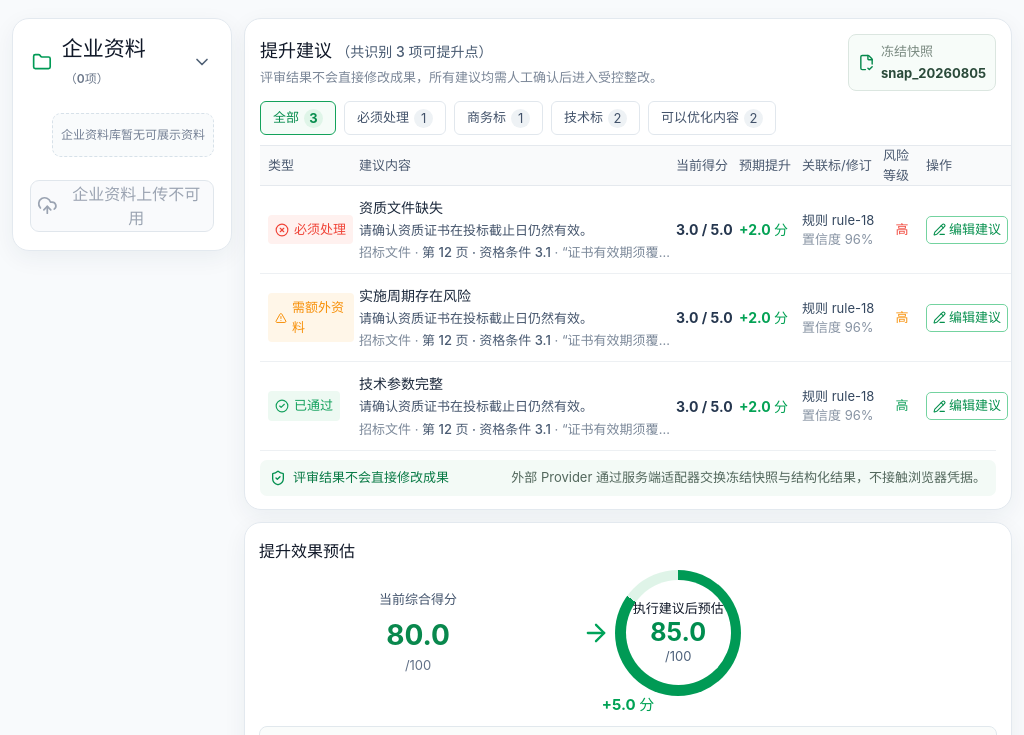
Test case: ReviewCenter › filters loaded findings by required action, category and optimizable status
The image size is (1024, 735).
Step 1. Click the button "必须处理 1" → [395, 118], box [344,101,446,135]
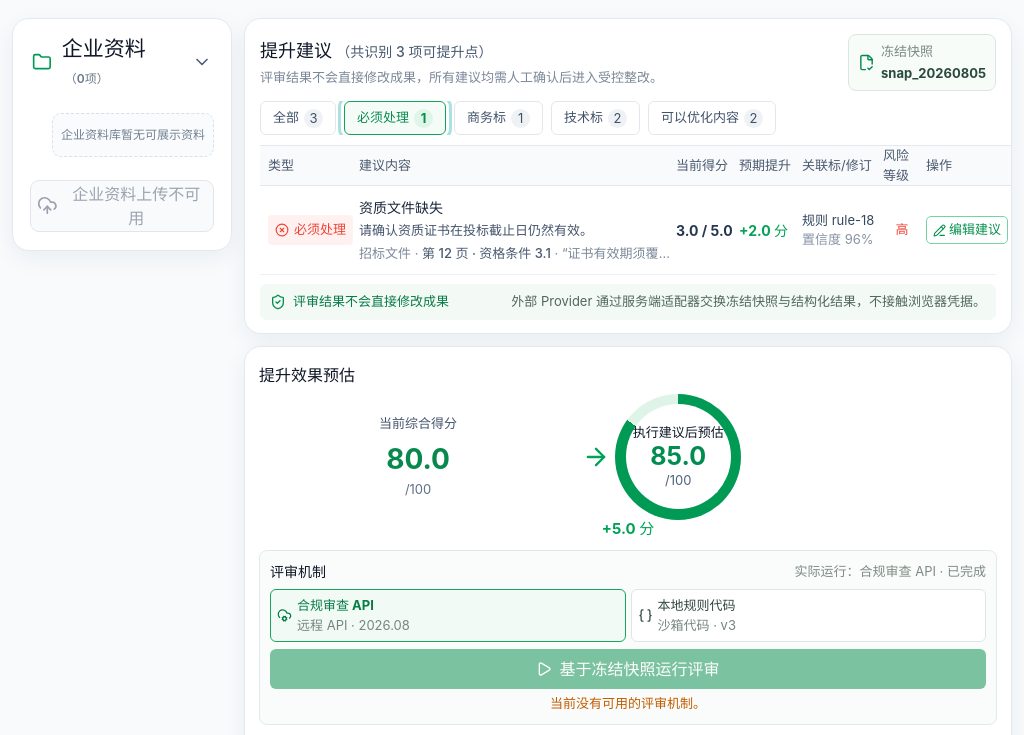
Expected: the text "资质文件缺失" is shown, [359,199,443,216]
Now the text "实施周期存在风险" is gone
Step 2. Click the button "技术标 2" → [596, 118], box [551,101,640,135]
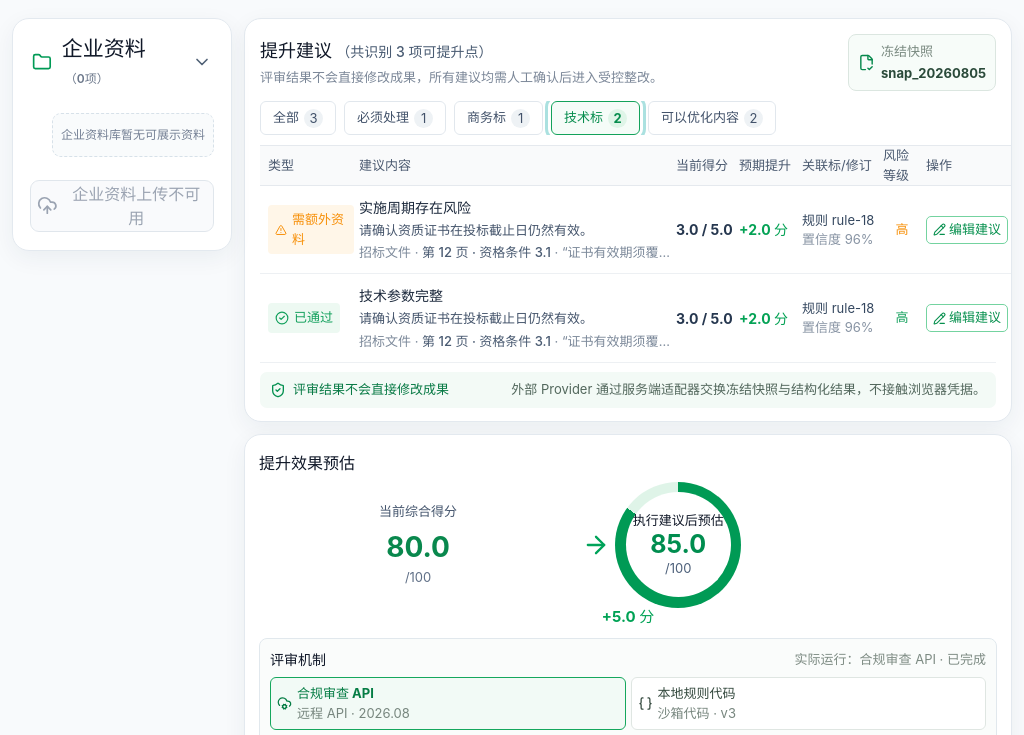
Now the text "资质文件缺失" is gone
Now the text "实施周期存在风险" is shown, box [359,198,471,216]
Now the text "技术参数完整" is shown, box [359,287,443,304]
Step 3. Click the button "可以优化内容 2" → [712, 118], box [648,101,776,135]
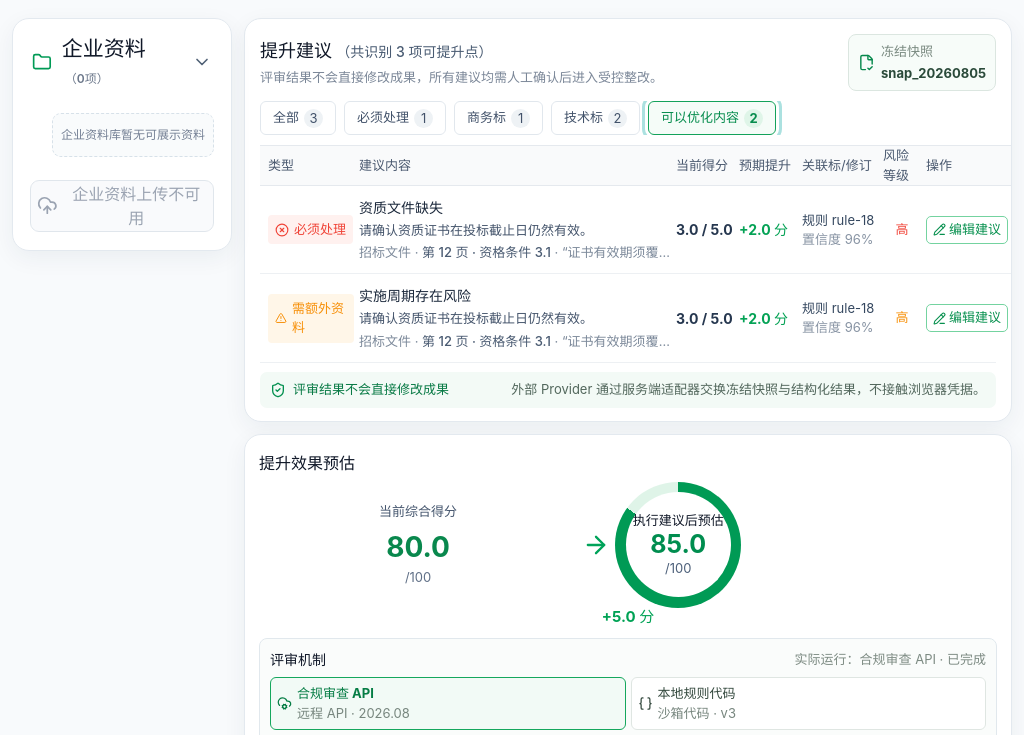
Now the text "实施周期存在风险" is shown, box [359,287,471,304]
Now the text "资质文件缺失" is shown, box [359,198,443,216]
Now the text "技术参数完整" is gone
Step 4. Click the button "全部 3" → [298, 118], box [260,101,336,135]
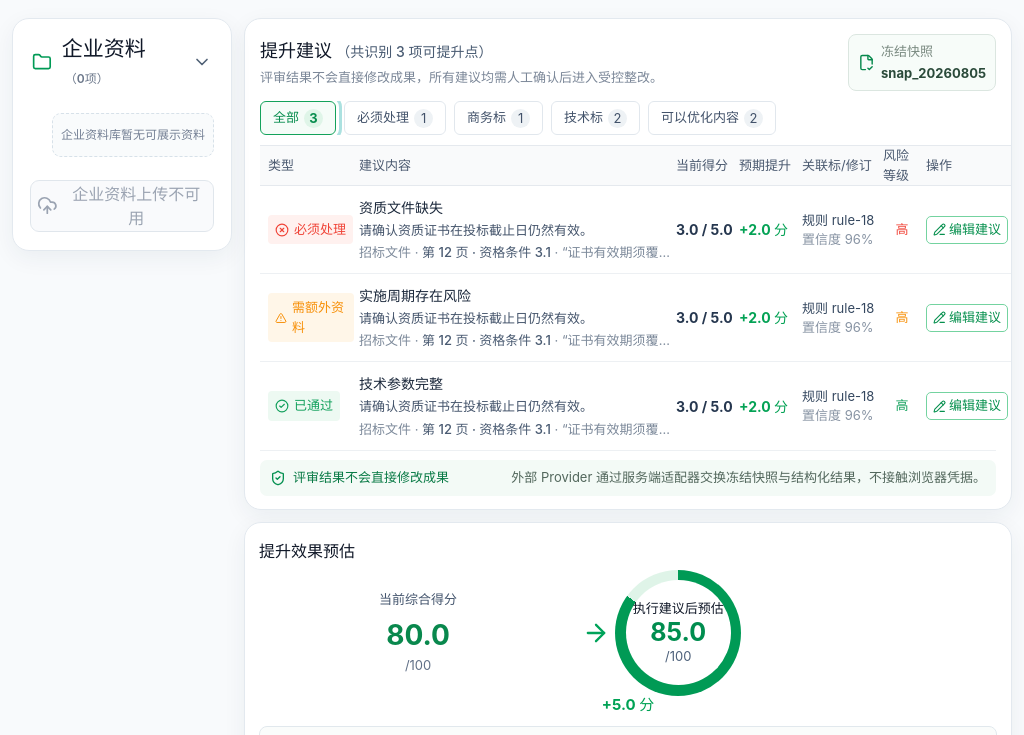
Now the text "技术参数完整" is shown, box [359,375,443,392]
